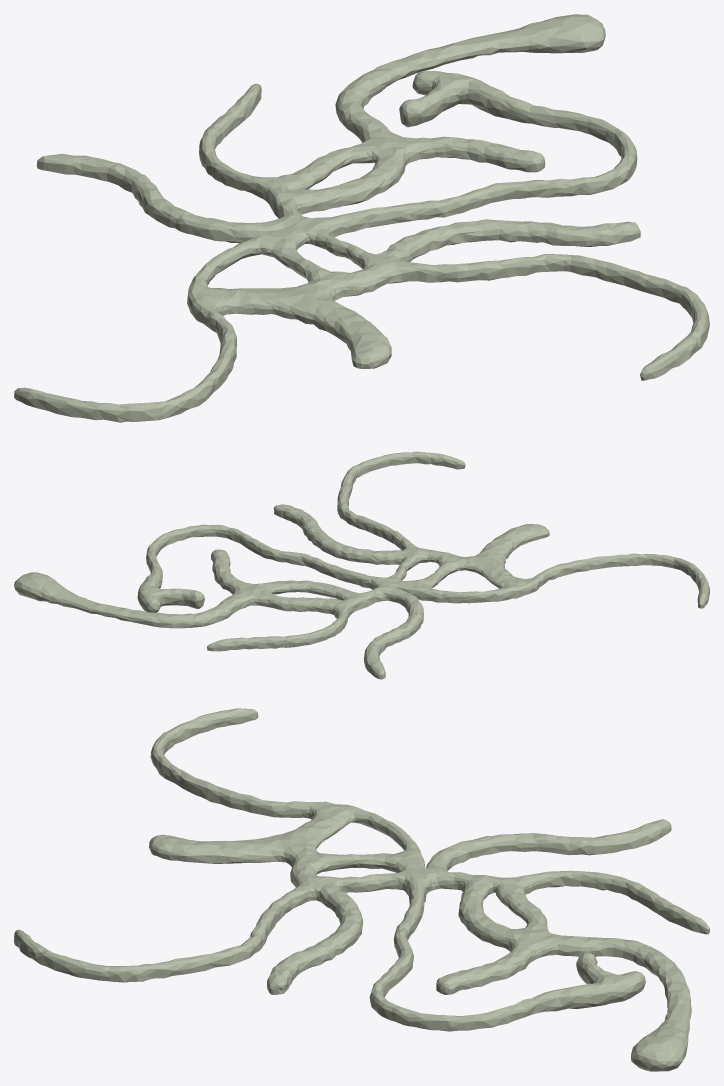
The model's file is cave.glb.
3 renders of one model, top to bottom at view 1: azimuth 30°, elevation 25°; view 2: azimuth 150°, elevation 25°; view 3: azimuth 270°, elevation 25°, orthographic. The views are drawn at different scales.
Visible parts, largest first — view 1: Cube; view 2: Cube; view 3: Cube.
Boxes of the visible parts, x1=… form: Cube: x1=14, y1=14, x2=709, y2=422; Cube: x1=14, y1=451, x2=709, y2=679; Cube: x1=14, y1=708, x2=709, y2=1071.
Bounding box in the file's own units: 115 × 3.81 × 95.03.
